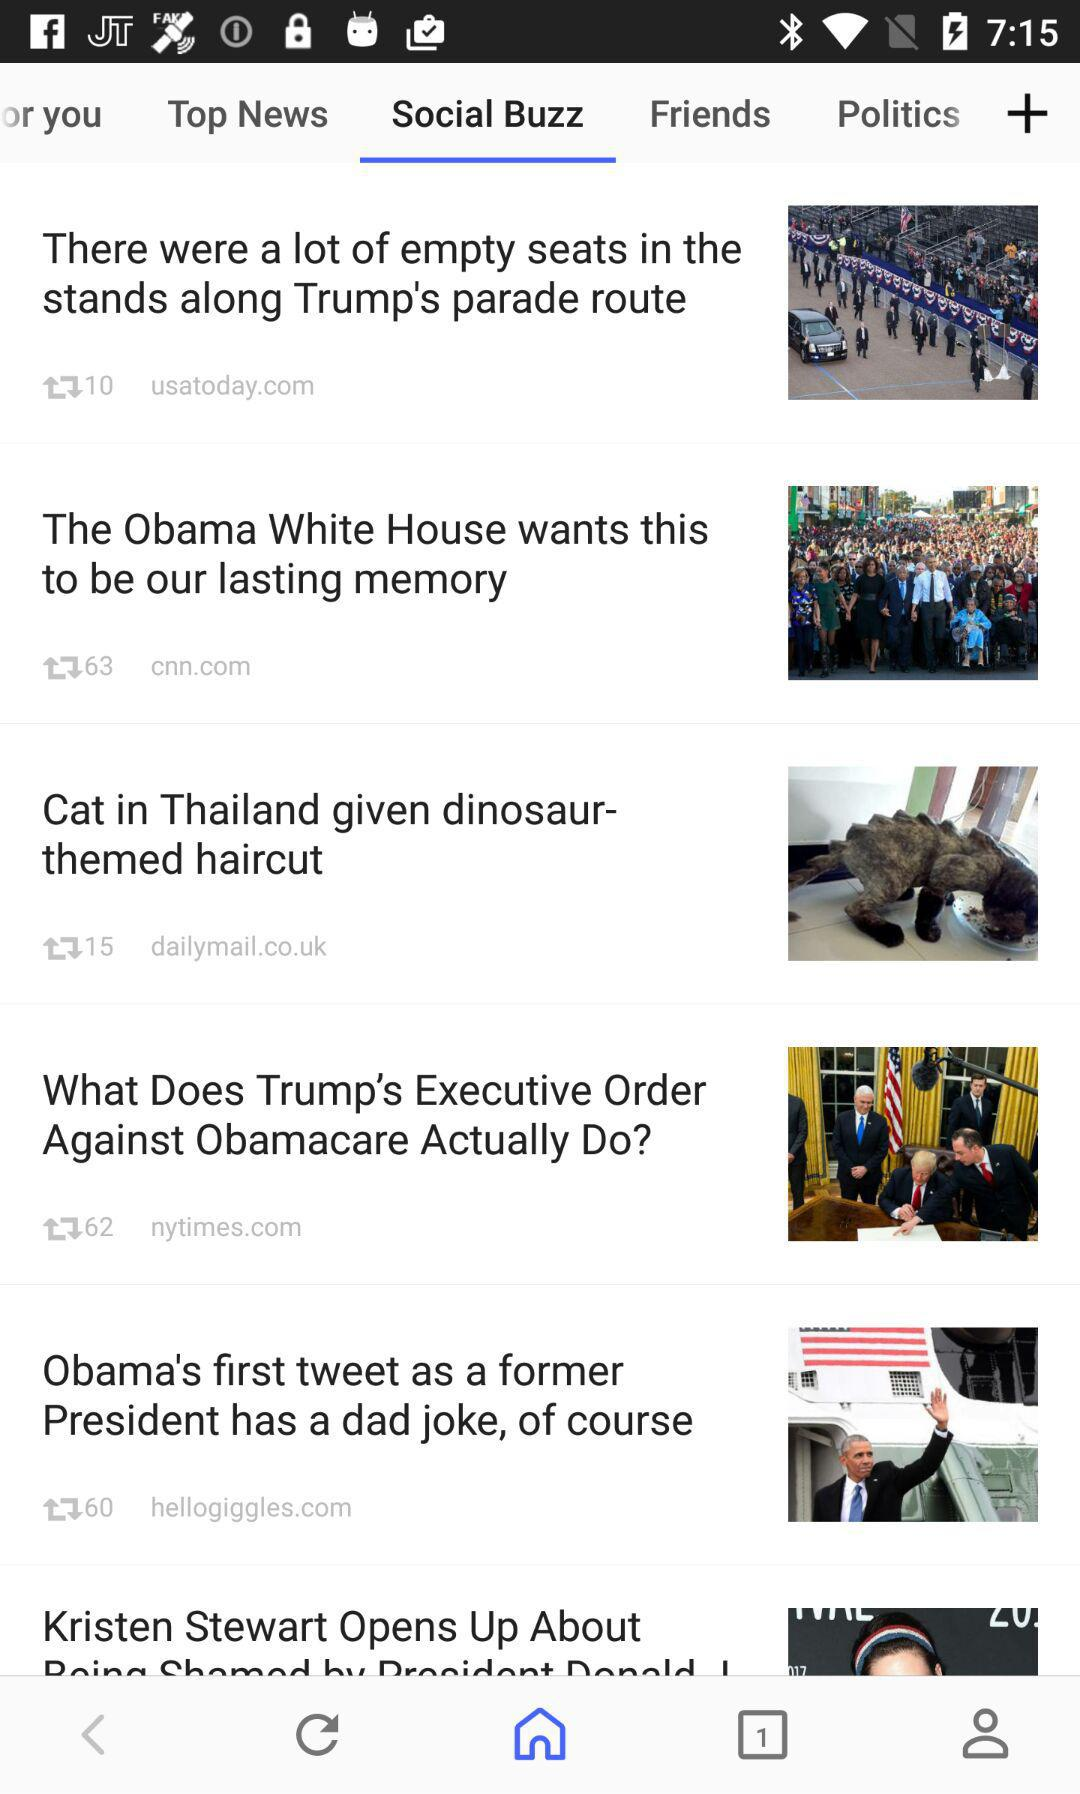Bottom_Navigation: (1, 1676, 1080, 1794)
Icon: (514, 1707, 568, 1761), (962, 1707, 1010, 1759), (296, 1713, 340, 1757), (1006, 94, 1048, 135), (44, 935, 85, 962), (42, 375, 85, 401), (81, 1713, 106, 1756), (44, 1497, 85, 1522), (44, 656, 85, 680), (44, 1217, 85, 1242)
Image: (788, 486, 1039, 680), (788, 1328, 1038, 1522), (788, 1047, 1038, 1242), (788, 206, 1038, 401), (788, 768, 1038, 961), (788, 1608, 1038, 1676), (737, 1709, 788, 1759)
Multi_Tab: (1, 64, 1080, 164)
Text: (44, 231, 743, 324), (44, 1352, 694, 1445), (42, 513, 708, 604), (44, 1073, 708, 1164), (42, 793, 618, 876), (45, 1609, 729, 1676), (392, 99, 584, 129), (168, 100, 329, 136), (151, 1495, 354, 1524), (151, 934, 329, 964), (151, 374, 315, 402), (152, 1216, 302, 1243), (838, 99, 960, 129), (651, 99, 771, 129), (1, 106, 102, 137), (151, 659, 252, 678), (86, 1495, 115, 1518), (86, 935, 115, 959), (86, 1216, 115, 1238), (85, 655, 114, 677), (86, 375, 114, 397)
UpperTaskBar: (1, 1, 1080, 64)
